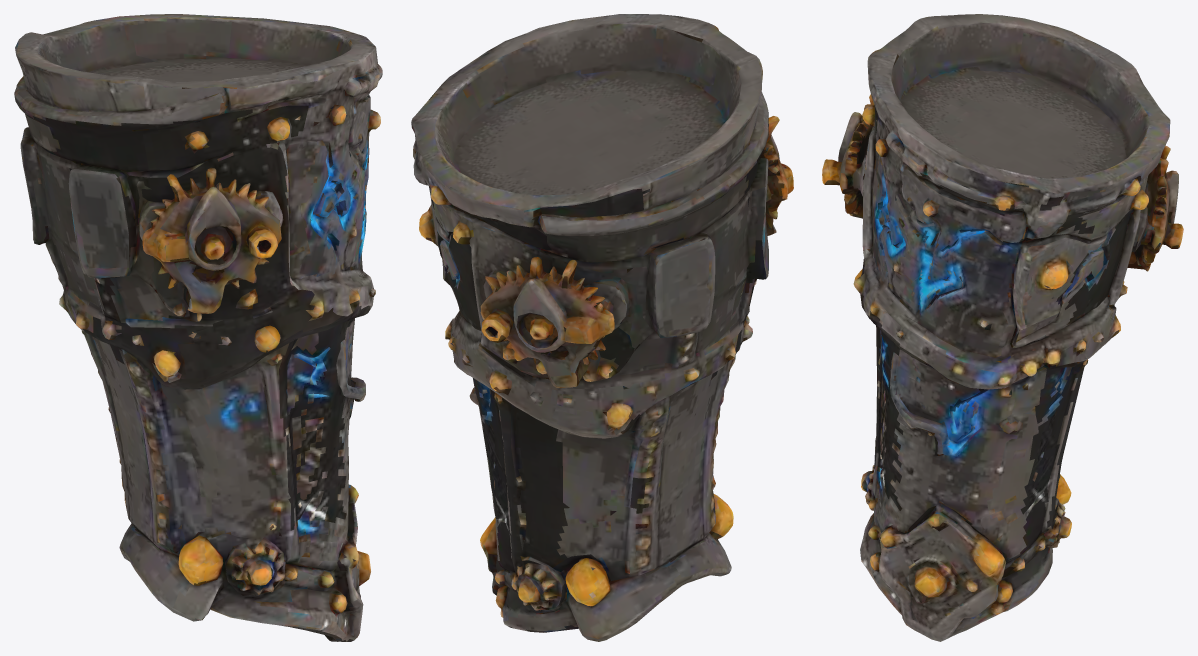
The model's file is artifice-bracal.glb.
The picture shows the model from 3 angles, left to right: view 1: azimuth 30°, elevation 25°; view 2: azimuth 150°, elevation 25°; view 3: azimuth 270°, elevation 25°; orthographic projection. The views are drawn at different scales.
Visible parts, largest first — view 1: tripo_node_1e1bae2a-ba0e-4304-8dbd-ad391e5cbb11; view 2: tripo_node_1e1bae2a-ba0e-4304-8dbd-ad391e5cbb11; view 3: tripo_node_1e1bae2a-ba0e-4304-8dbd-ad391e5cbb11.
Part boxes in pixels (x1=…): tripo_node_1e1bae2a-ba0e-4304-8dbd-ad391e5cbb11: x1=14, y1=14, x2=382, y2=641; tripo_node_1e1bae2a-ba0e-4304-8dbd-ad391e5cbb11: x1=411, y1=14, x2=793, y2=641; tripo_node_1e1bae2a-ba0e-4304-8dbd-ad391e5cbb11: x1=822, y1=14, x2=1183, y2=641.
Size of the model in its own units: 0.5363 by 0.978 by 0.6017.
1 material, 1 textured.
